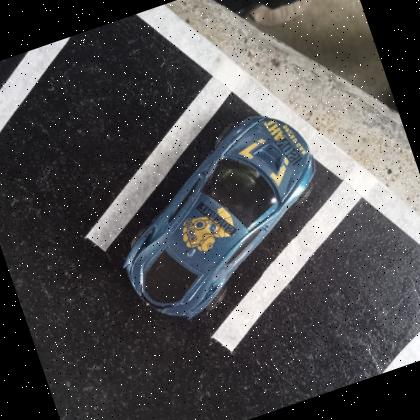Car: (121, 114, 315, 317)
